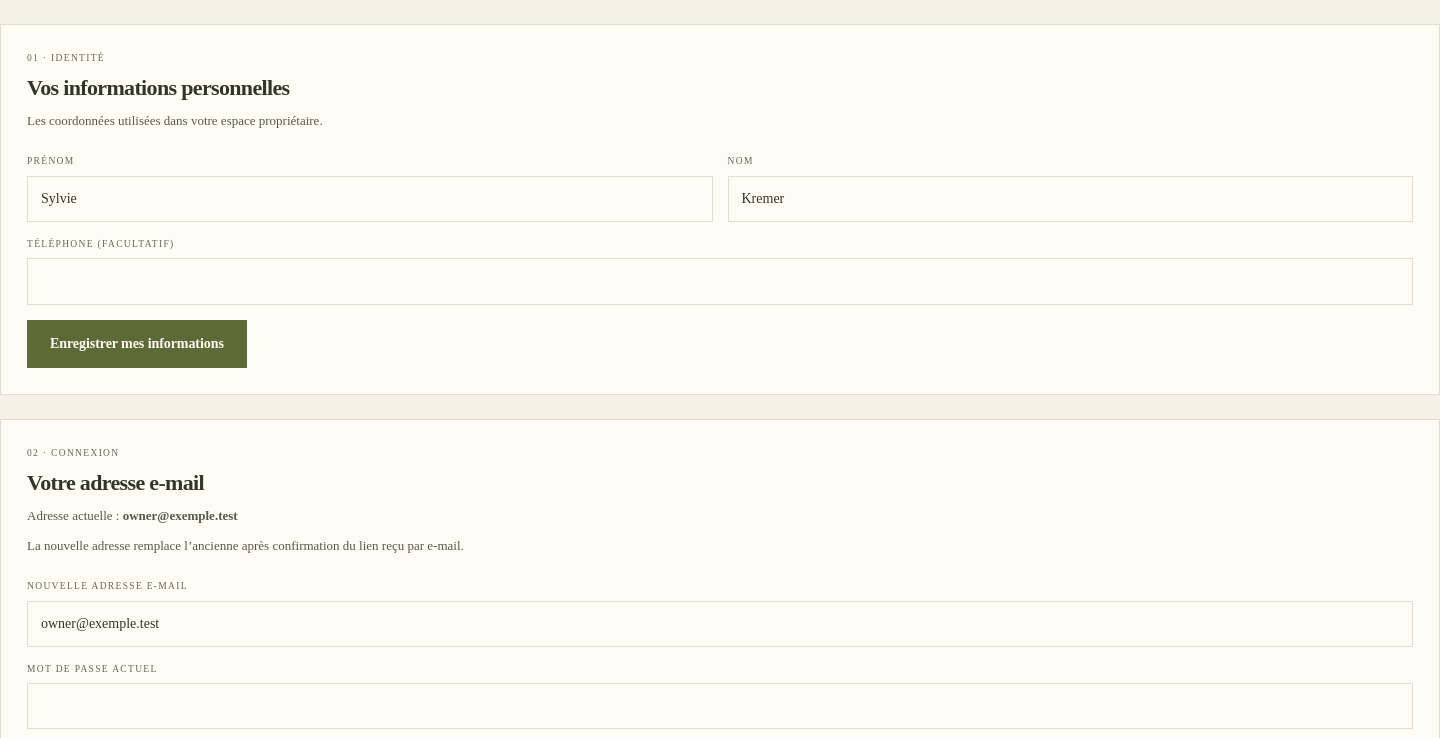
it: Informations du compte propriétaire › affiche le refus du serveur sans annoncer un enregistrement réussi
The width and height of the screenshot is (1440, 738).
Click the button "Enregistrer mes informations". click: (137, 344)
box: [27, 320, 247, 368]
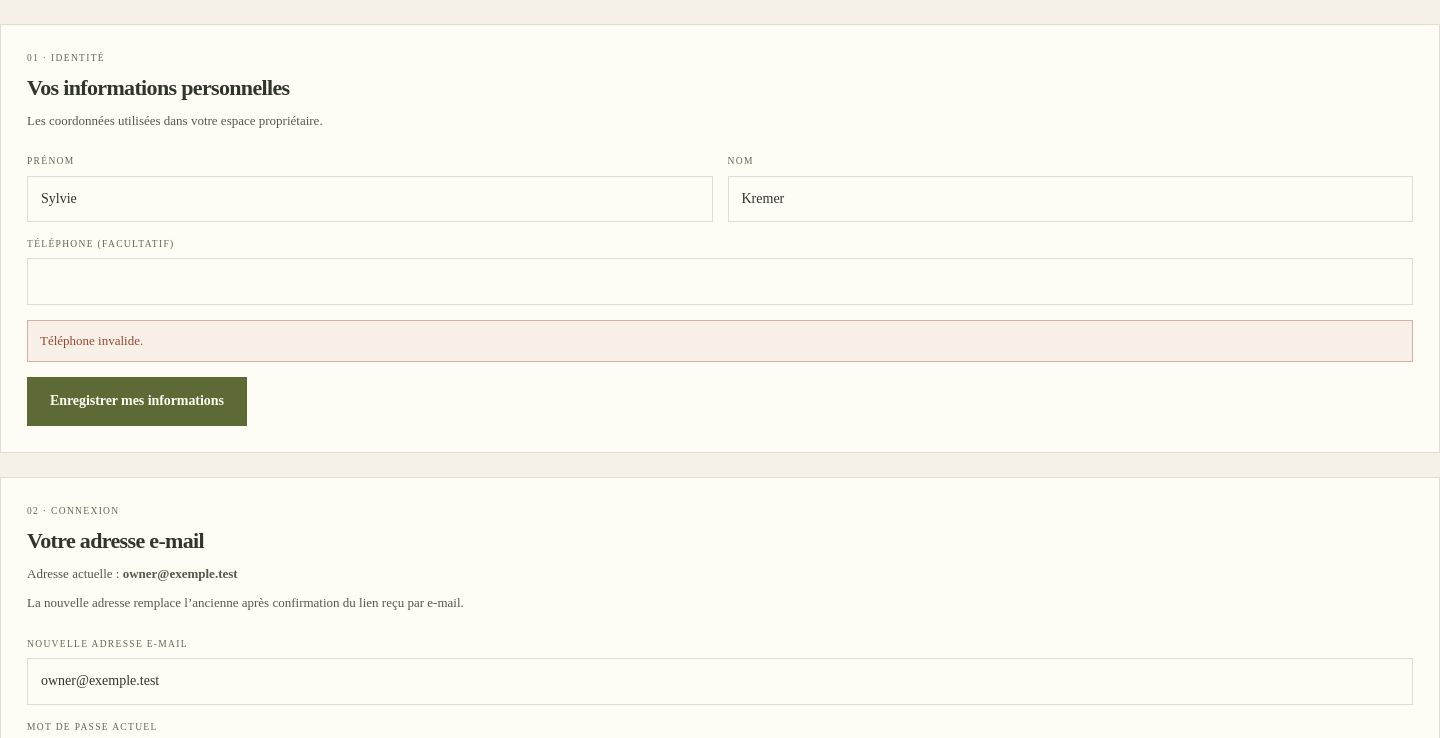
Check: the message reads "Téléphone invalide.", box [40, 333, 143, 348]
